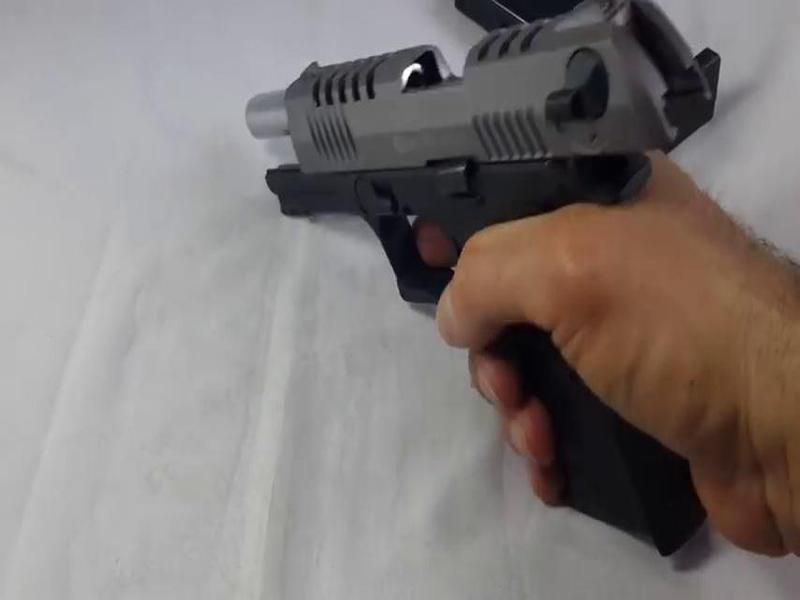Pistola: (230, 4, 722, 553)
